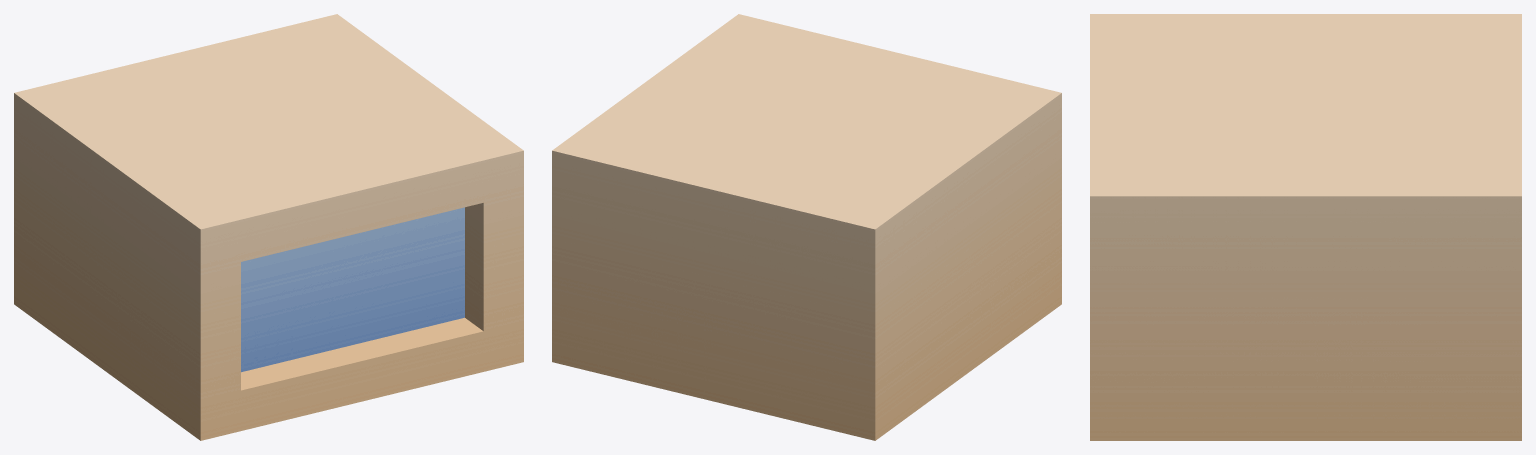
The model's file is kp_ui_building_window_wide.glb.
3 renders of one model, left to right at view 1: azimuth 30°, elevation 25°; view 2: azimuth 150°, elevation 25°; view 3: azimuth 270°, elevation 25°, orthographic. The views are drawn at different scales.
Visible parts, largest first — view 1: building-window-wide; view 2: building-window-wide; view 3: building-window-wide.
Boxes of the visible parts, x1,y1,x2,y2 form: building-window-wide: (14,14,523,440); building-window-wide: (552,14,1061,440); building-window-wide: (1090,14,1521,440).
Bounding box in the file's own units: 1 × 0.625 × 1.
1 material, 1 textured.
